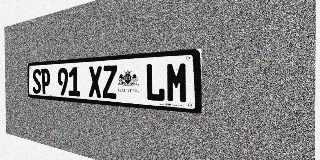1: (68, 67, 80, 96)
9: (57, 67, 68, 96)
L: (145, 63, 165, 102)
M: (166, 61, 189, 104)
P: (41, 68, 50, 94)
S: (32, 69, 41, 94)
X: (88, 66, 102, 98)
Z: (102, 65, 117, 99)
